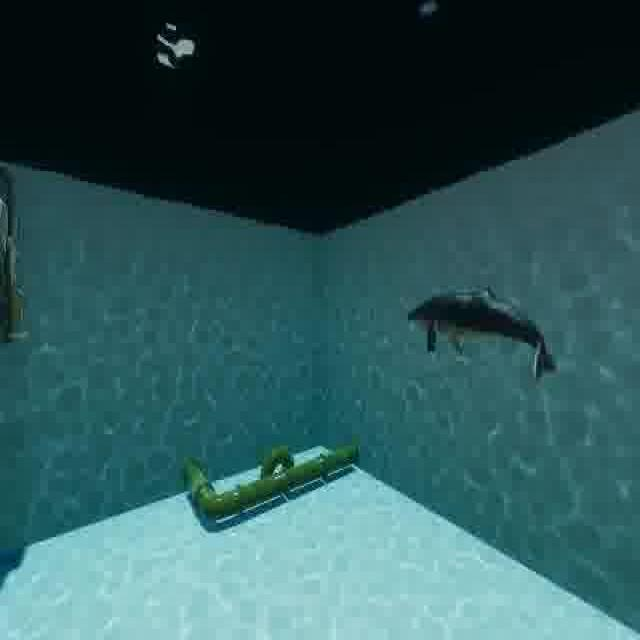Control Panel: (1, 160, 42, 346)
Pipe: (162, 426, 387, 538)
Whale: (401, 273, 563, 389)
